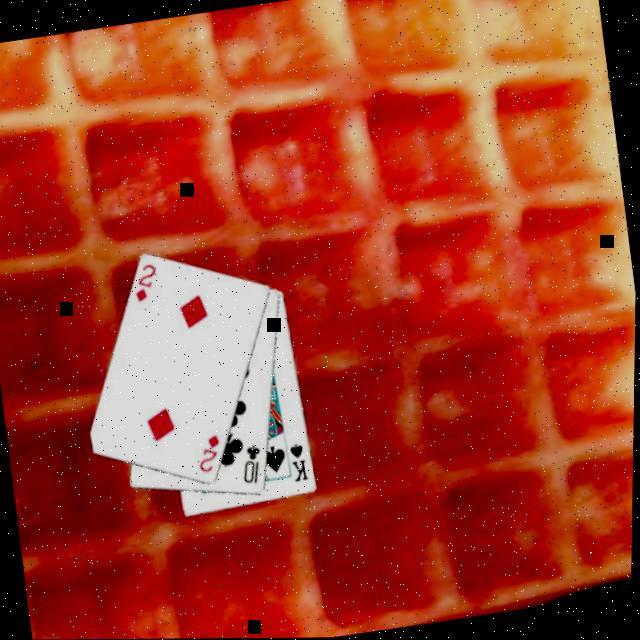10C: (238, 439, 272, 486)
2D: (194, 428, 230, 474), (130, 258, 166, 304)
KS: (288, 438, 316, 483)
